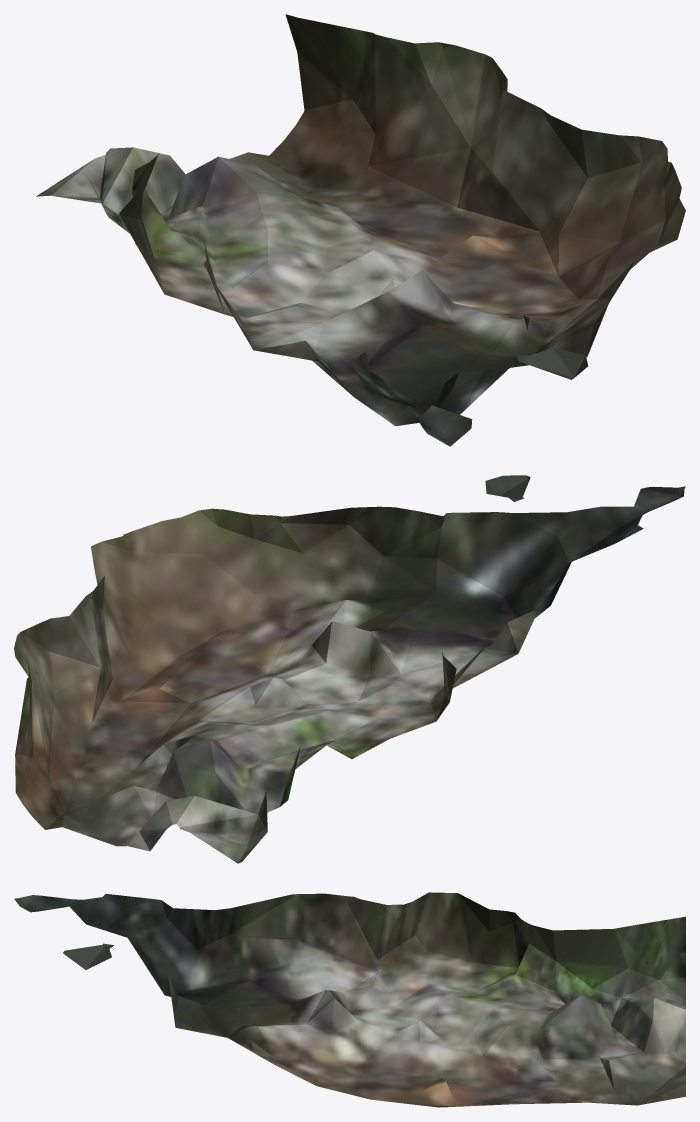
The picture shows the model from 3 angles, top to bottom: view 1: azimuth 30°, elevation 25°; view 2: azimuth 150°, elevation 25°; view 3: azimuth 270°, elevation 25°; orthographic projection. The views are drawn at different scales.
Size of the model in its own units: 10.16 by 2.91 by 17.43.
1 material, 1 textured.
